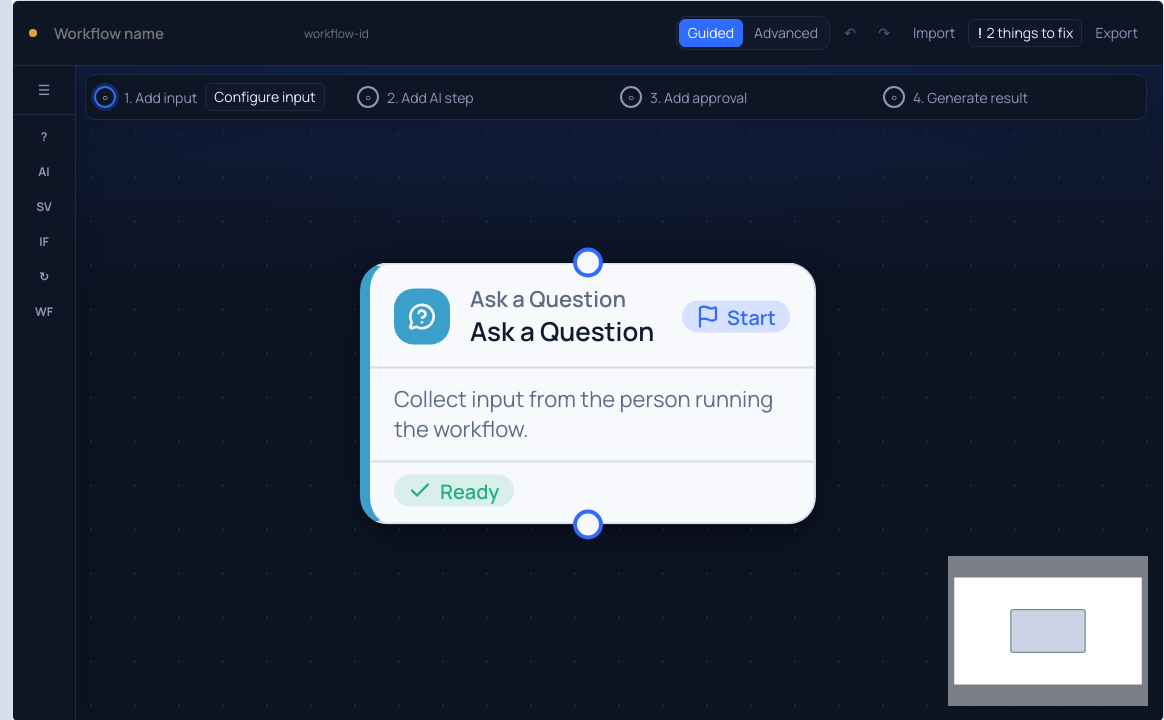
Scenario: Export success confirmation › clears a previous export confirmation when a new workflow is imported (the claim is stale)
Step 1. Click the button with test id "workflow-builder-export" → (1117, 33), box [1086, 19, 1147, 47]
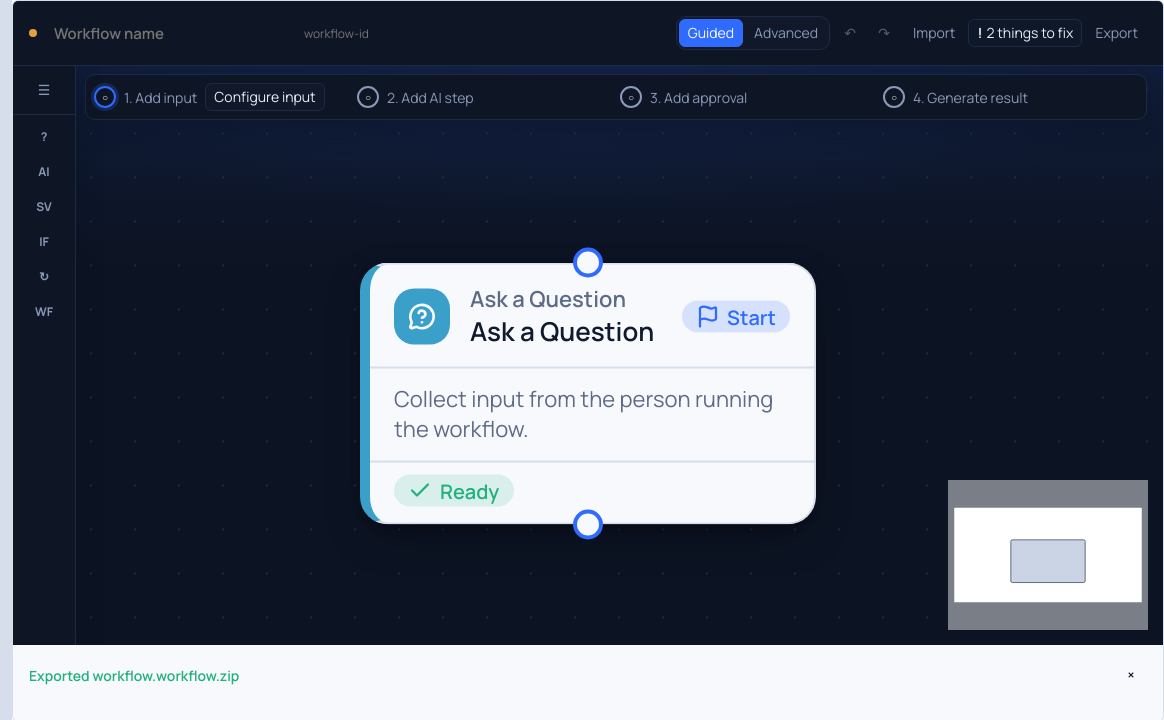
Now the message "Exported workflow.workflow.zip ×" is shown, box [13, 659, 1163, 707]
Step 2. Click the button with test id "workflow-builder-import" → (934, 33), box [904, 19, 964, 47]
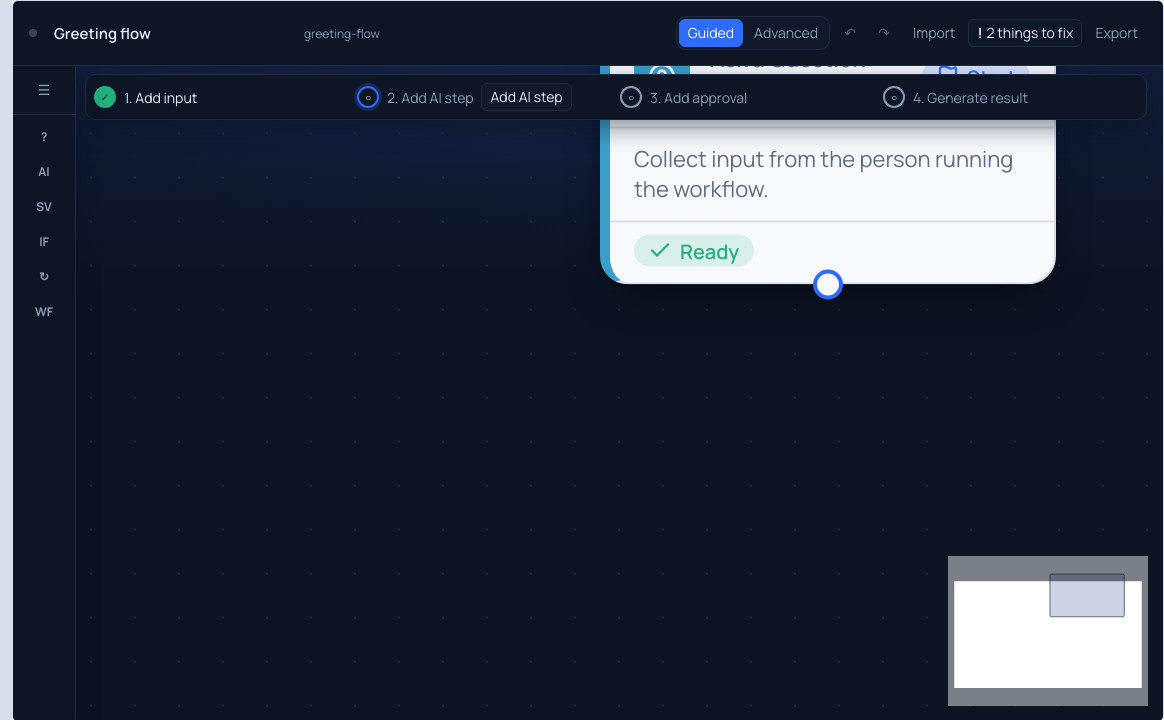
Now the message with test id "export-success" is gone
